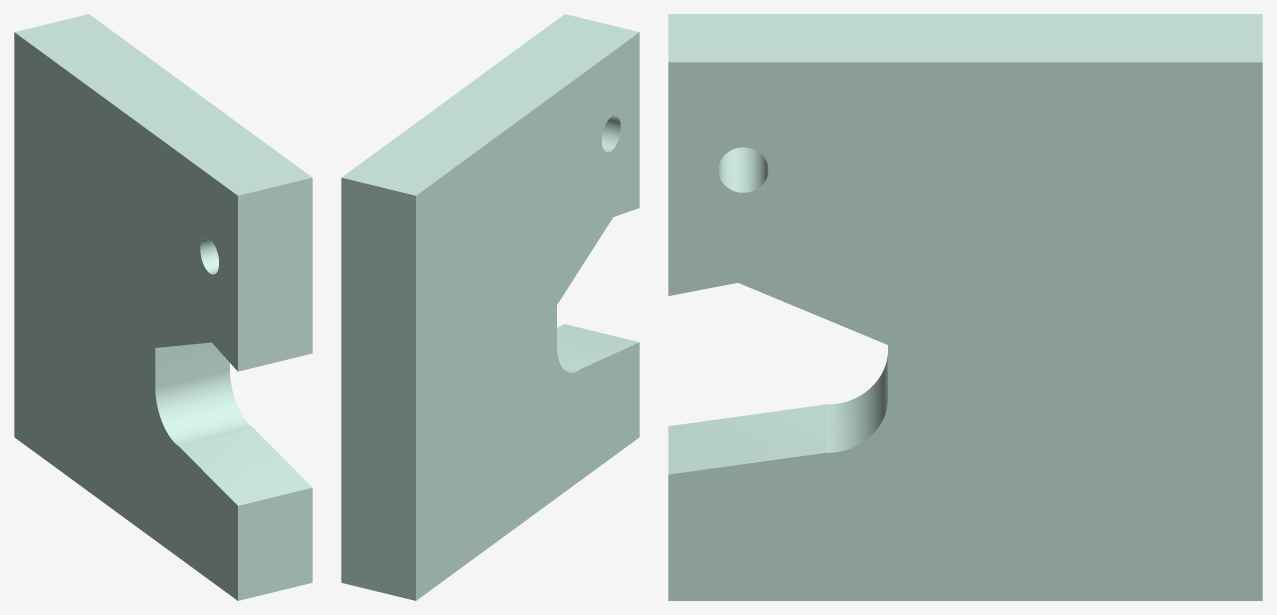
The picture shows the model from 3 angles, left to right: view 1: azimuth 30°, elevation 25°; view 2: azimuth 150°, elevation 25°; view 3: azimuth 270°, elevation 25°; orthographic projection. The views are drawn at different scales.
Visible parts, largest first — view 1: Renderer Node; view 2: Renderer Node; view 3: Renderer Node.
Part boxes in pixels (x1,y1,x2,y2): Renderer Node: [14, 14, 312, 600]; Renderer Node: [341, 14, 639, 600]; Renderer Node: [668, 14, 1262, 600].
Bounding box in the file's own units: 0.2891 × 1.5 × 1.5.
